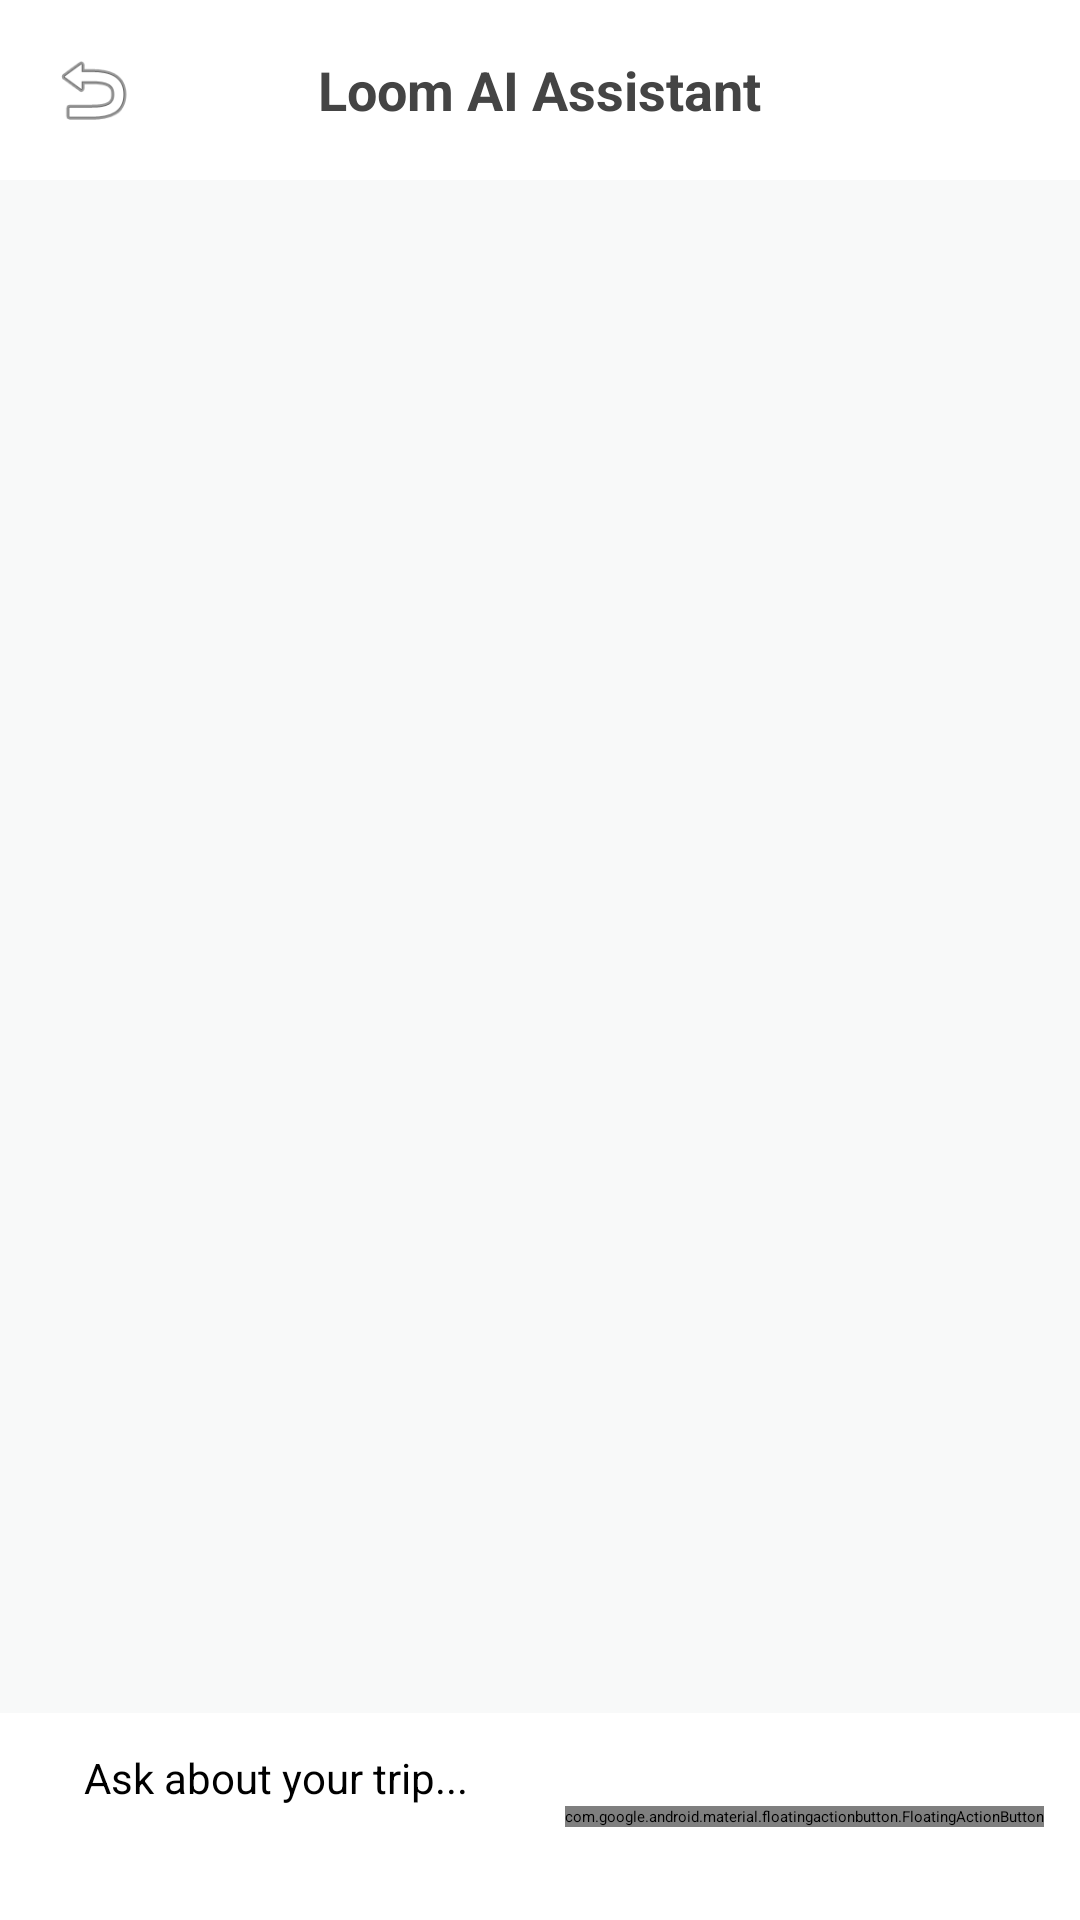

Named icons in this screenshot (1080px x 1920px) and their bounding boxes, Rect(x1, y1, x2, y2):
revert: Rect(62, 61, 127, 120)
